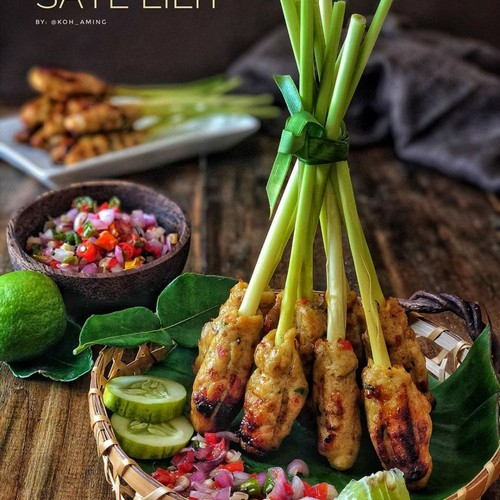sate lilit: (194, 60, 414, 418)
